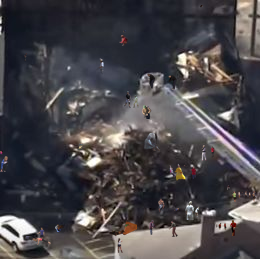Human: (147, 73, 177, 90), (144, 133, 172, 151), (23, 227, 51, 245), (149, 220, 178, 237), (169, 163, 196, 181), (226, 191, 256, 207), (207, 220, 237, 236), (109, 221, 137, 237), (185, 201, 200, 220), (201, 145, 215, 161), (0, 156, 10, 174), (142, 105, 153, 119), (96, 58, 104, 77), (114, 238, 123, 253), (124, 91, 131, 108), (119, 35, 128, 46), (158, 198, 165, 212), (132, 95, 139, 108), (55, 224, 65, 232), (77, 142, 83, 150), (24, 53, 27, 62), (174, 208, 179, 211), (227, 185, 230, 190), (0, 150, 3, 155), (123, 30, 126, 33), (200, 5, 203, 8), (127, 218, 128, 220)
